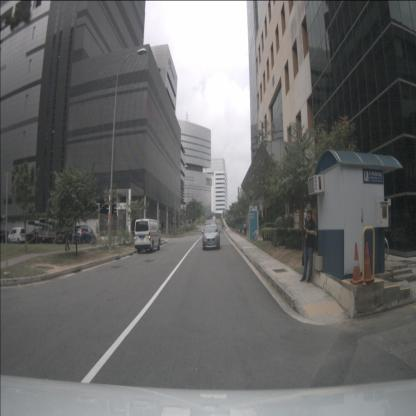cone: (361, 242, 374, 284), (351, 242, 363, 286)
